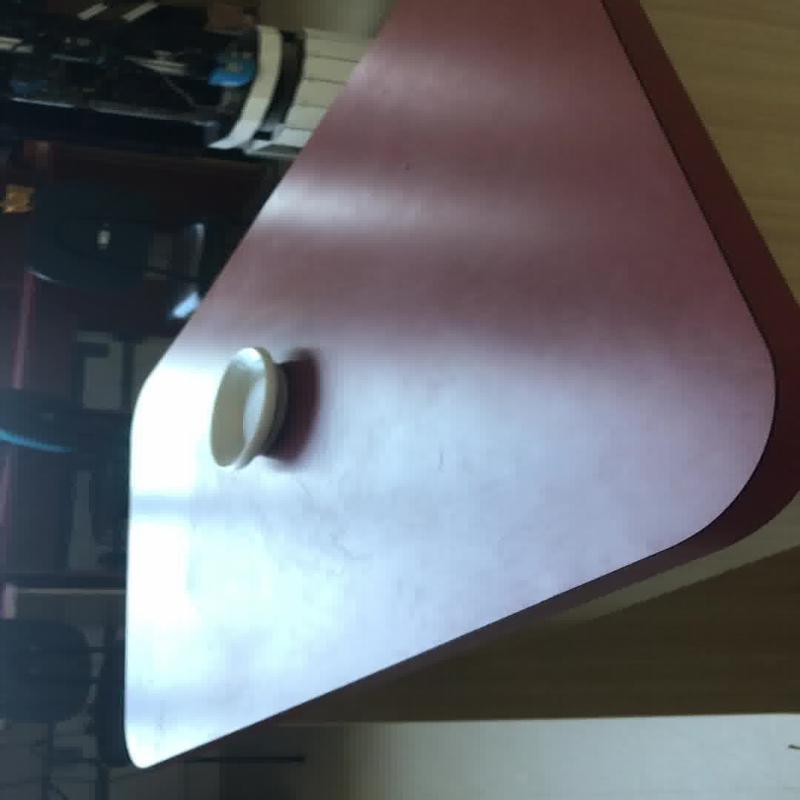plate: (115, 0, 796, 767), (208, 345, 288, 470)
